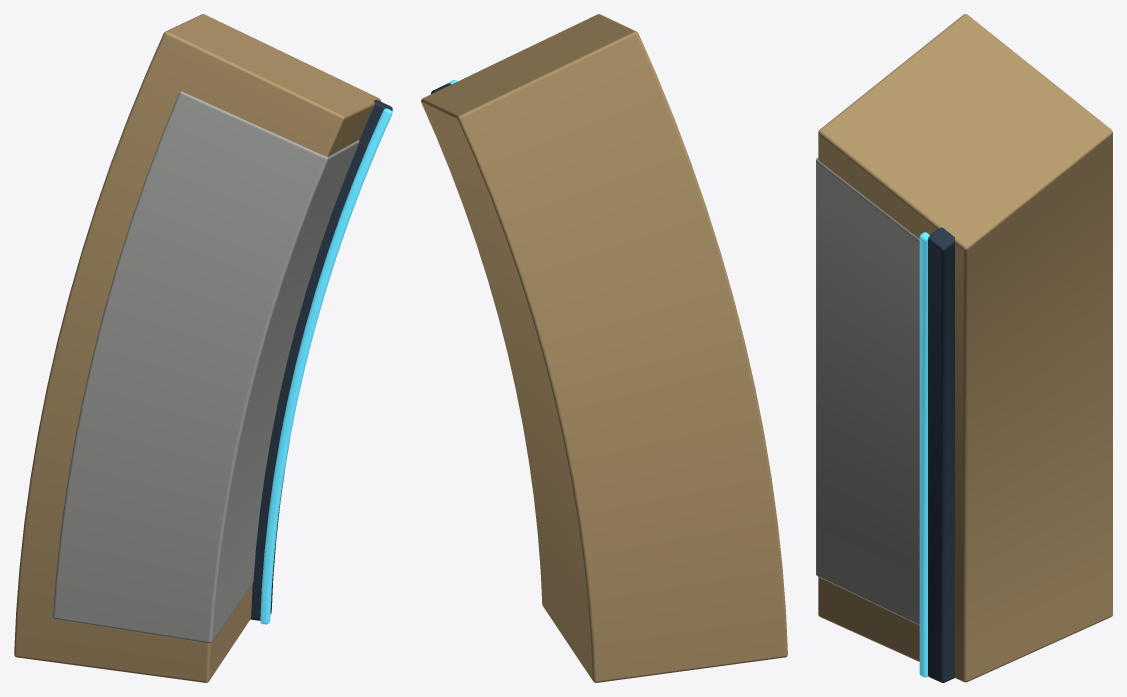
File: SM_HC2_BeatHalo_051.fbx
The picture shows the model from 3 angles, left to right: view 1: azimuth 30°, elevation 25°; view 2: azimuth 150°, elevation 25°; view 3: azimuth 270°, elevation 25°; orthographic projection. The views are drawn at different scales.
Parts seen in each view (by area): view 1: SM_HC2_BeatHalo_051; view 2: SM_HC2_BeatHalo_051; view 3: SM_HC2_BeatHalo_051.
Part boxes in pixels (box(x1,y1,x2,y2)): SM_HC2_BeatHalo_051: box(14, 14, 392, 682); SM_HC2_BeatHalo_051: box(421, 14, 787, 682); SM_HC2_BeatHalo_051: box(816, 14, 1112, 682).
Bounding box in the file's own units: 196 × 132 × 304.
